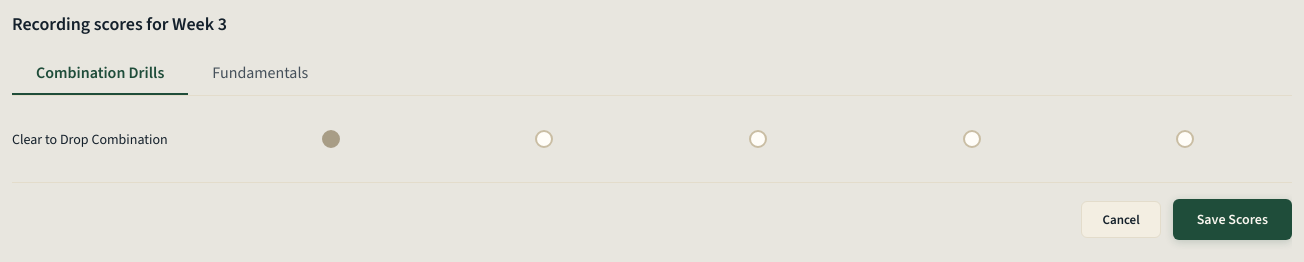
Test: SkillScoreInput › switches tabs to reveal the other category drills
The image size is (1304, 262).
Click the tab "Fundamentals": (260, 74) [188,53,332,95]
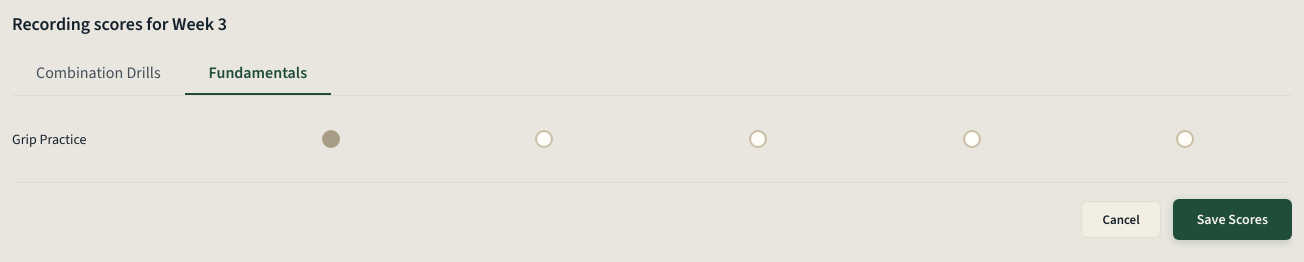
Result: the text "Grip Practice" is shown at [12,130,86,149]
Result: the text "Clear to Drop Combination" is gone
